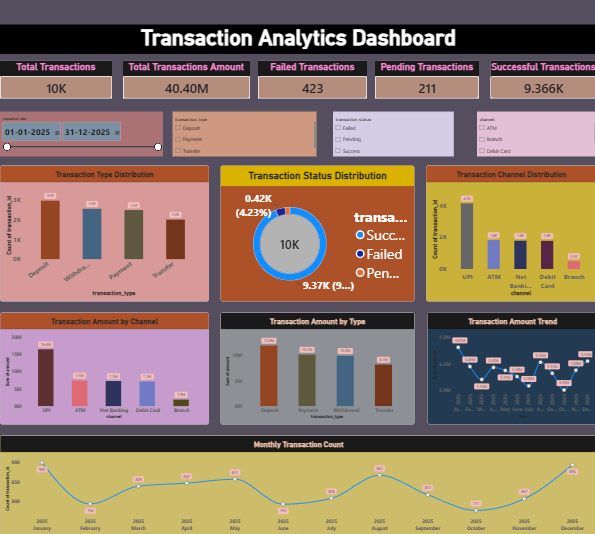

What the dashboard file says about the page in this screenshot:
{"tool":"powerbi","page":{"name":"Transaction Analytics Dashboard","canvas":[1990,1800],"ordinal":1},"visuals":[{"type":"cardVisual","title":"Total Transactions","fields":{"Data":["transactions_measure.total_transaction"]},"box":[0,203.3,373.3,126.7],"z":0},{"type":"cardVisual","title":"Total Transactions Amount","fields":{"Data":["transactions_measure.Total Transaction Amount"]},"box":[410,203.3,423.3,126.7],"z":1000},{"type":"cardVisual","title":"Successful Transactions","fields":{"Data":["transactions_measure.Successful Transactions"]},"box":[1636.7,203.3,353.3,126.7],"z":2000},{"type":"cardVisual","title":"Failed Transactions","fields":{"Data":["transactions_measure.Failed Transactions"]},"box":[860,203.3,363.3,126.7],"z":3000},{"type":"cardVisual","title":"Pending Transactions","fields":{"Data":["transactions_measure.Pending Transactions"]},"box":[1250,203.3,346.7,126.7],"z":4000},{"type":"clusteredColumnChart","title":"Transaction Type Distribution","fields":{"Category":["Transactions.transaction_type"],"Y":["CountNonNull(Transactions.transaction_id)"]},"box":[0,553.3,696.7,453.3],"z":5000},{"type":"donutChart","title":"Transaction Status Distribution","fields":{"Category":["Transactions.transaction_status"],"Y":["CountNonNull(Transactions.transaction_id)"]},"box":[733.3,553.3,646.7,453.3],"z":6000},{"type":"clusteredColumnChart","title":"Transaction Channel Distribution","fields":{"Category":["Transactions.channel"],"Y":["CountNonNull(Transactions.transaction_id)"]},"box":[1420,553.3,570,453.3],"z":7000},{"type":"clusteredColumnChart","title":"Transaction Amount by Channel","fields":{"Category":["Transactions.channel"],"Y":["Sum(Transactions.amount)"]},"box":[0,1046.7,696.7,373.3],"z":8000},{"type":"clusteredColumnChart","title":"Transaction Amount by Type","fields":{"Category":["Transactions.transaction_type"],"Y":["Sum(Transactions.amount)"]},"box":[733.3,1046.7,646.7,373.3],"z":9000},{"type":"lineChart","title":"Transaction Amount Trend","fields":{"Category":["Transactions.transaction_date.Variation.Date Hierarchy.Month","Transactions.transaction_date.Variation.Date Hierarchy.Year"],"Y":["Sum(Transactions.amount)"]},"box":[1423.3,1046.7,566.7,373.3],"z":10000},{"type":"lineChart","title":"Monthly Transaction Count","fields":{"Category":["Transactions.transaction_date.Variation.Date Hierarchy.Month","Transactions.transaction_date.Variation.Date Hierarchy.Year"],"Y":["CountNonNull(Transactions.transaction_id)"]},"box":[0,1456.7,1990,360],"z":11000},{"type":"slicer","fields":{"Values":["Transactions.transaction_date"]},"box":[0,376.7,543.3,150],"z":12000},{"type":"slicer","fields":{"Values":["Transactions.transaction_type"]},"box":[576.7,376.7,480,150],"z":13000},{"type":"slicer","fields":{"Values":["Transactions.transaction_status"]},"box":[1110,376.7,402.5,150],"z":14000},{"type":"slicer","fields":{"Values":["Transactions.channel"]},"box":[1590,376.7,400,150],"z":15000},{"type":"textbox","title":"Transaction Analytics Dashboard","box":[0,83.3,1990,150],"z":16000}]}

Visuals, with their boxes in screenshot pixels (x1, y1, x2, y2), scaled from the page's 1990x1800 canvas onto the 595x534 screenshot:
"Total Transactions" cardVisual: {"left": 0, "top": 60, "right": 112, "bottom": 98}
"Total Transactions Amount" cardVisual: {"left": 123, "top": 60, "right": 249, "bottom": 98}
"Successful Transactions" cardVisual: {"left": 489, "top": 60, "right": 594, "bottom": 98}
"Failed Transactions" cardVisual: {"left": 257, "top": 60, "right": 366, "bottom": 98}
"Pending Transactions" cardVisual: {"left": 374, "top": 60, "right": 477, "bottom": 98}
"Transaction Type Distribution" clusteredColumnChart: {"left": 0, "top": 164, "right": 208, "bottom": 299}
"Transaction Status Distribution" donutChart: {"left": 219, "top": 164, "right": 413, "bottom": 299}
"Transaction Channel Distribution" clusteredColumnChart: {"left": 425, "top": 164, "right": 594, "bottom": 299}
"Transaction Amount by Channel" clusteredColumnChart: {"left": 0, "top": 311, "right": 208, "bottom": 421}
"Transaction Amount by Type" clusteredColumnChart: {"left": 219, "top": 311, "right": 413, "bottom": 421}
"Transaction Amount Trend" lineChart: {"left": 426, "top": 311, "right": 594, "bottom": 421}
"Monthly Transaction Count" lineChart: {"left": 0, "top": 432, "right": 594, "bottom": 533}
slicer - Transactions.transaction_date: {"left": 0, "top": 112, "right": 162, "bottom": 156}
slicer - Transactions.transaction_type: {"left": 172, "top": 112, "right": 316, "bottom": 156}
slicer - Transactions.transaction_status: {"left": 332, "top": 112, "right": 452, "bottom": 156}
slicer - Transactions.channel: {"left": 475, "top": 112, "right": 594, "bottom": 156}
"Transaction Analytics Dashboard" textbox: {"left": 0, "top": 25, "right": 594, "bottom": 69}
